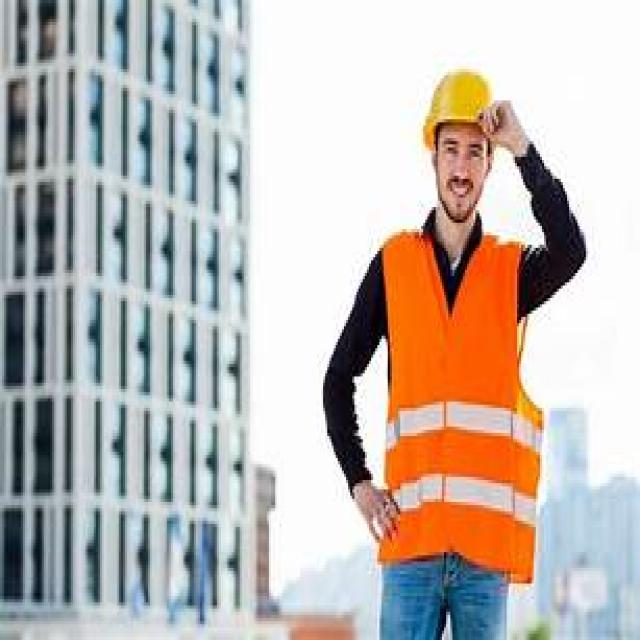not-gloved: (482, 97, 536, 162), (349, 473, 396, 542)
